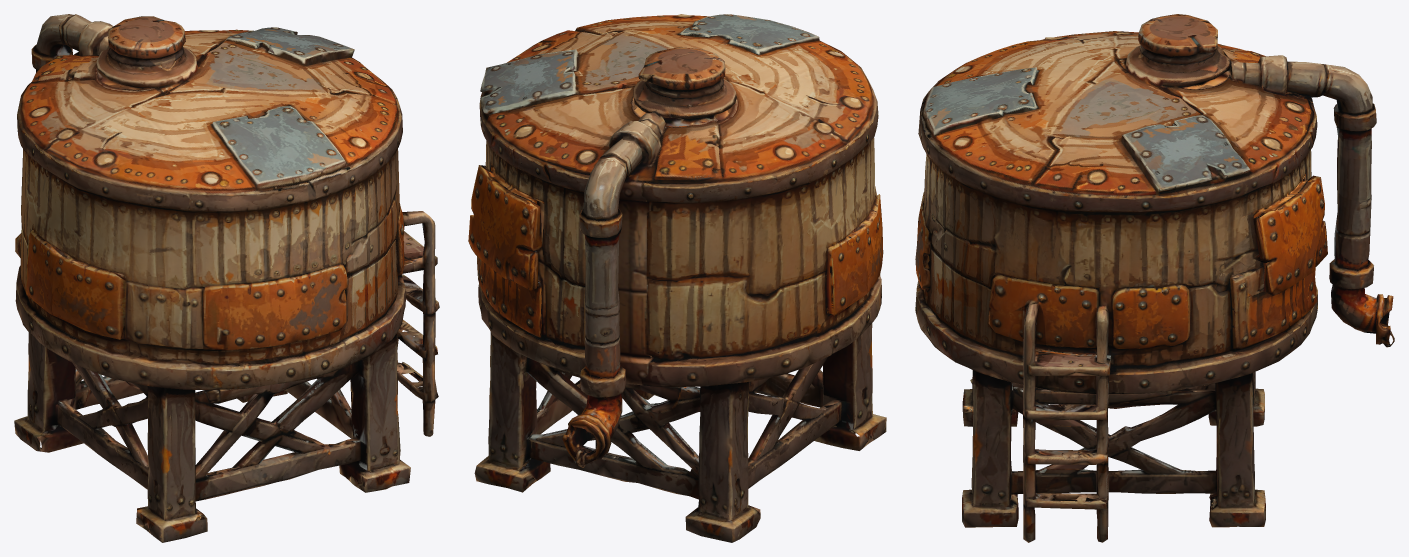
File: Settle_WaterTank.fbx
3 renders of one model, left to right at view 1: azimuth 30°, elevation 25°; view 2: azimuth 150°, elevation 25°; view 3: azimuth 270°, elevation 25°, orthographic. The views are drawn at different scales.
Visible parts, largest first — view 1: texture_mapping; view 2: texture_mapping; view 3: texture_mapping.
Part boxes in pixels (<box>): texture_mapping: <box>14,14,439,542</box>; texture_mapping: <box>468,14,886,542</box>; texture_mapping: <box>915,14,1394,542</box>.
Size of the model in its own units: 0.8721 by 0.9931 by 0.9645.
Materials: 1 (1 with a texture image).
